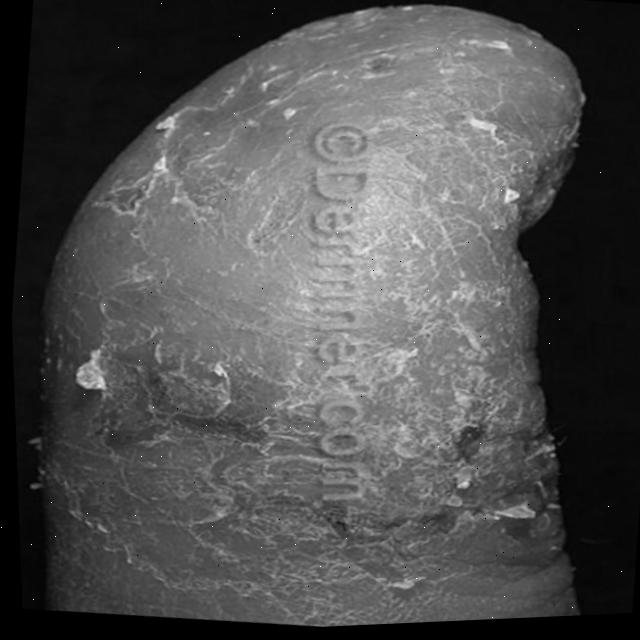Eczema: (54, 0, 579, 638)
